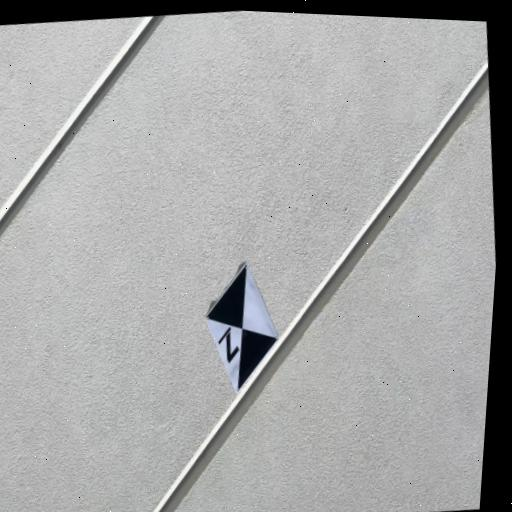target7: (206, 262, 279, 395)
